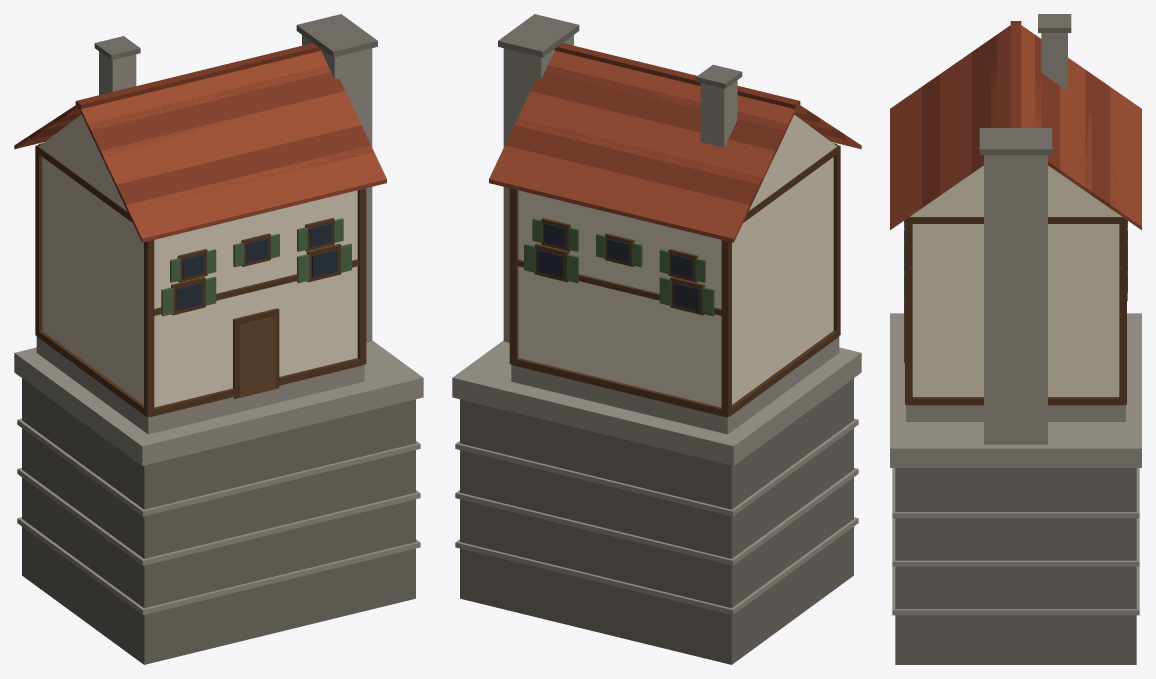
File: house_l3_2.glb
3 views of the same model, side by side, from view 1: azimuth 30°, elevation 25°; view 2: azimuth 150°, elevation 25°; view 3: azimuth 270°, elevation 25° (orthographic).
Visible parts, largest first — view 1: house_l3_2; view 2: house_l3_2; view 3: house_l3_2.
Part boxes in pixels (bbox=[...]): house_l3_2: bbox=[14, 14, 423, 664]; house_l3_2: bbox=[452, 14, 861, 664]; house_l3_2: bbox=[890, 14, 1141, 664].
Bounding box in the file's own units: 5.97 × 11.1 × 4.7.
